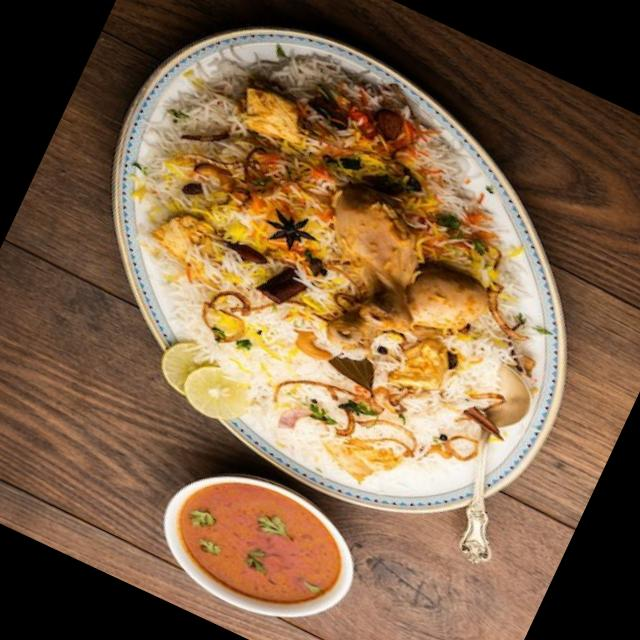Biryani: (40, 0, 631, 545)
